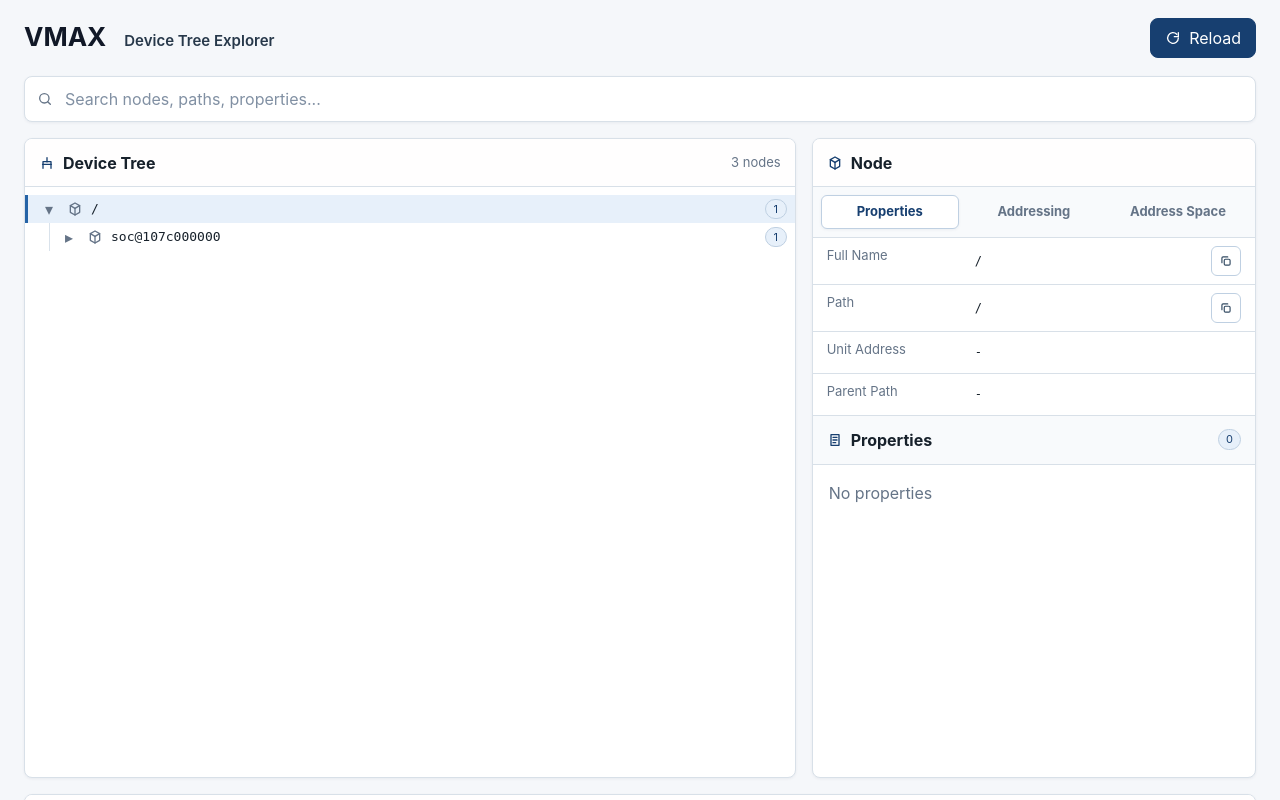
Test: App › shows the selected node details after clicking a tree node
Expected: the tab "Properties" is shown, x1=821 y1=195 x2=959 y2=228
Expected: the text "compatible" is not shown
Click the button "soc@107c000000" at (166, 237), box x1=85 y1=223 x2=757 y2=251
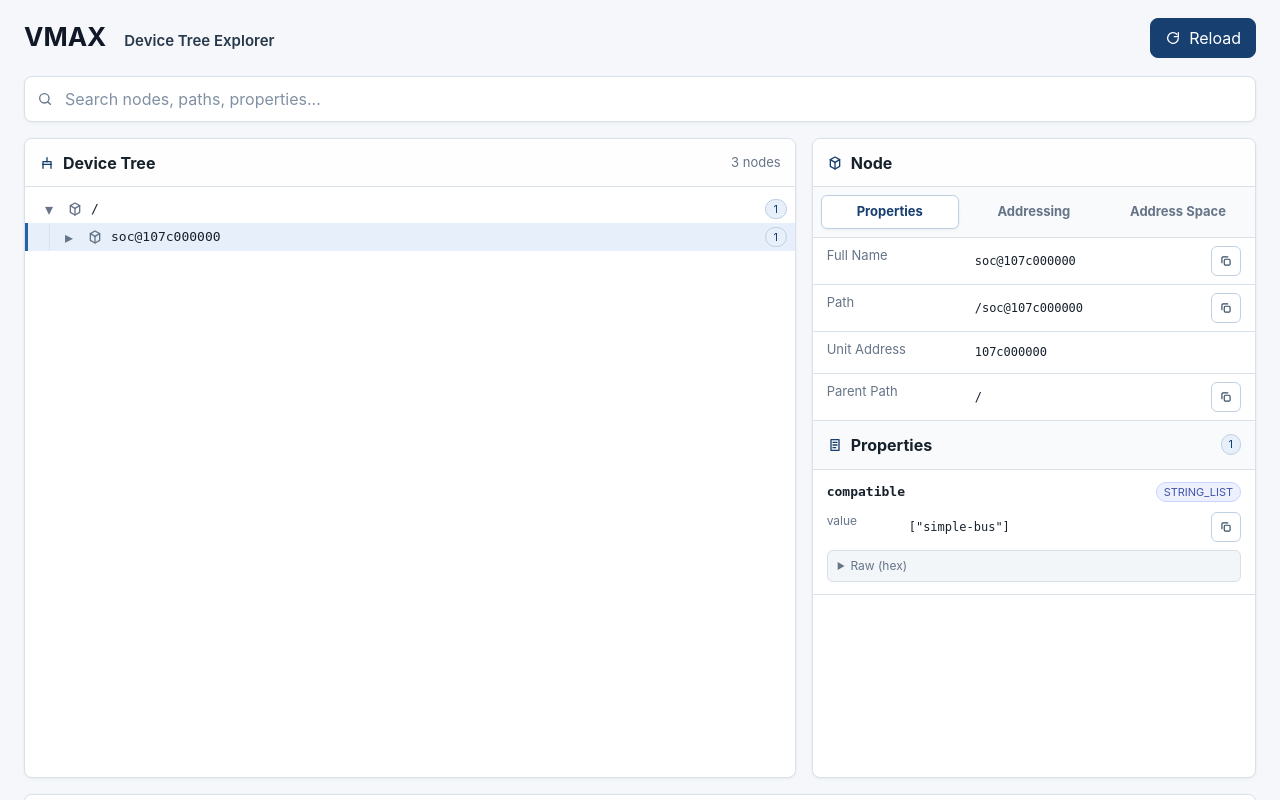
Now the text "compatible" is shown, box x1=827 y1=482 x2=905 y2=502
Now the text "[\"simple-bus\"]" is shown, box x1=909 y1=518 x2=1010 y2=536
